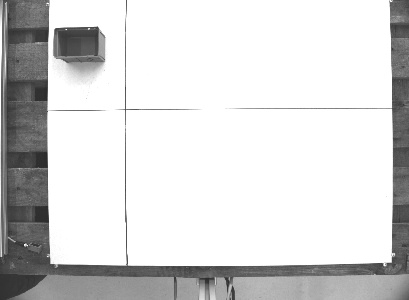kltxs: (51, 24, 109, 64)
